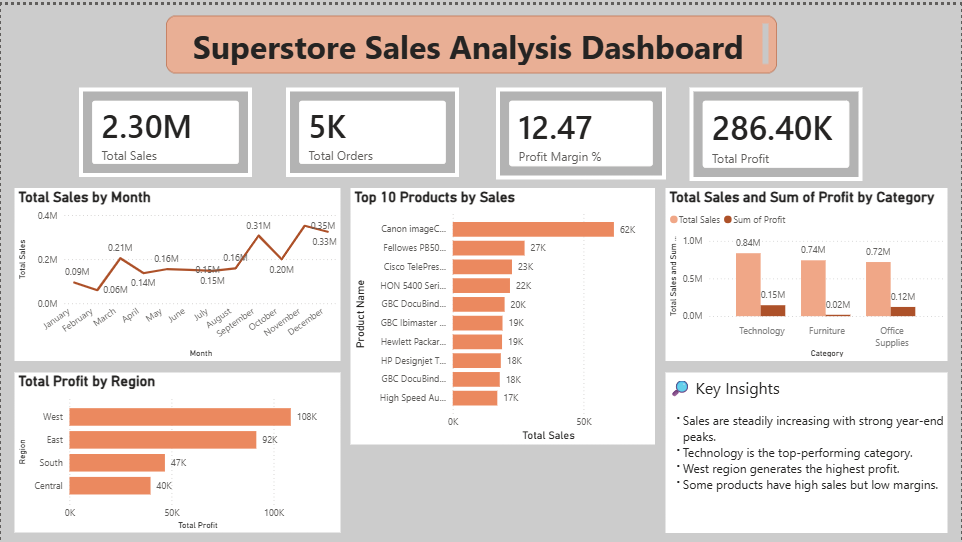

The page's visual inventory and layout, read from the dashboard file:
{"tool":"powerbi","page":{"name":"Page 1","canvas":[1280,720],"ordinal":0},"visuals":[{"type":"cardVisual","fields":{"Data":["Sample - Superstore.Total Sales"]},"box":[103.9,109.6,230.6,119.1],"z":0},{"type":"cardVisual","fields":{"Data":["Sample - Superstore.Total Profit"]},"box":[918.4,109.6,230.6,124.7],"z":1},{"type":"cardVisual","fields":{"Data":["Sample - Superstore.Total Orders"]},"box":[379.8,109.6,230.6,119.1],"z":2},{"type":"cardVisual","fields":{"Data":["Sample - Superstore.Profit Margin %"]},"box":[659.5,109.6,226.8,122.8],"z":3},{"type":"lineChart","fields":{"Category":["Sample - Superstore.Order Date.Variation.Date Hierarchy.Month"],"Y":["Sample - Superstore.Total Sales"]},"box":[17,243.8,434.6,230.6],"z":4},{"type":"clusteredColumnChart","fields":{"Category":["Sample - Superstore.Category"],"Y":["Sample - Superstore.Total Sales","Sum(Sample - Superstore.Profit)"]},"box":[886.3,243.8,376.1,230.6],"z":5},{"type":"clusteredBarChart","title":"Top 10 Products by Sales","fields":{"Category":["Sample - Superstore.Product Name"],"Y":["Sample - Superstore.Total Sales"]},"box":[466.8,243.8,406.3,342],"z":6},{"type":"clusteredBarChart","fields":{"Category":["Sample - Superstore.Region"],"Y":["Sample - Superstore.Total Profit"]},"box":[17,489.5,434.6,213.5],"z":7},{"type":"textbox","box":[219.2,13.2,814.5,77.5],"z":8},{"type":"textbox","box":[886,489,376,214],"z":9}]}

Visuals, with their boxes in screenshot pixels (x1, y1, x2, y2), scaled from the page's 1280x720 canvas onto the 962x542 screenshot:
cardVisual - Sample - Superstore.Total Sales: x1=78, y1=83, x2=251, y2=172
cardVisual - Sample - Superstore.Total Profit: x1=690, y1=83, x2=864, y2=176
cardVisual - Sample - Superstore.Total Orders: x1=285, y1=83, x2=459, y2=172
cardVisual - Sample - Superstore.Profit Margin %: x1=496, y1=83, x2=666, y2=175
lineChart - Sample - Superstore.Order Date.Variation.Date Hierarchy.Month x Sample - Superstore.Total Sales: x1=13, y1=184, x2=339, y2=357
clusteredColumnChart - Sample - Superstore.Category x Sample - Superstore.Total Sales: x1=666, y1=184, x2=949, y2=357
"Top 10 Products by Sales" clusteredBarChart: x1=351, y1=184, x2=656, y2=441
clusteredBarChart - Sample - Superstore.Region x Sample - Superstore.Total Profit: x1=13, y1=368, x2=339, y2=529
textbox: x1=165, y1=10, x2=777, y2=68
textbox: x1=666, y1=368, x2=948, y2=529
